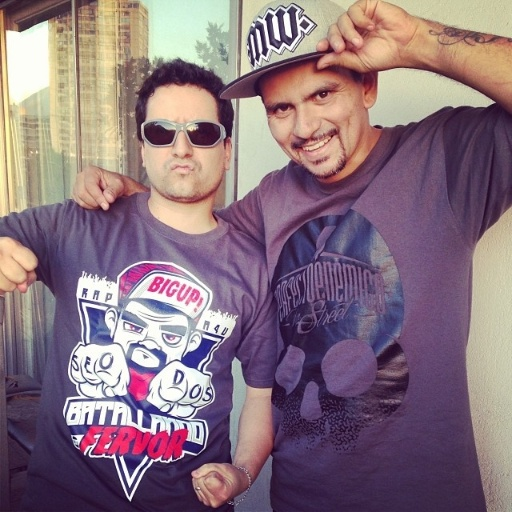hand: (313, 0, 417, 76), (64, 160, 124, 213), (188, 460, 246, 511), (0, 236, 40, 296)
